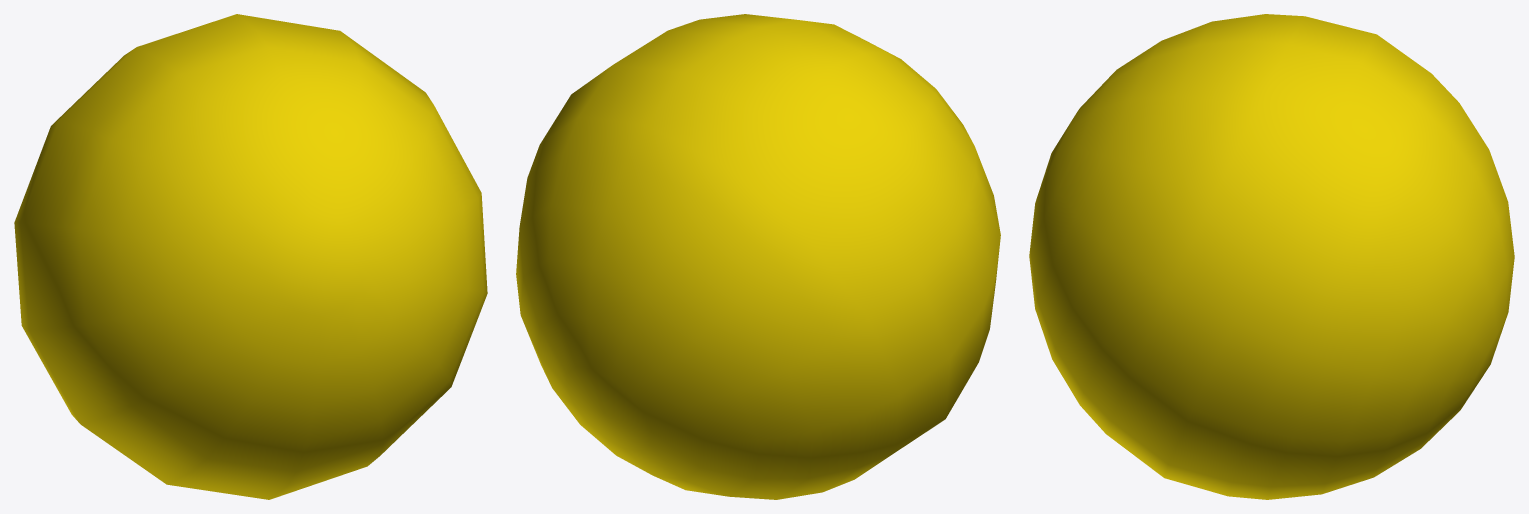
File: High_catching_Fingers_Up_ball_01.fbx
The picture shows the model from 3 angles, left to right: view 1: azimuth 30°, elevation 25°; view 2: azimuth 150°, elevation 25°; view 3: azimuth 270°, elevation 25°; orthographic projection. The views are drawn at different scales.
Parts seen in each view (by area): view 1: polySurface178; view 2: polySurface178; view 3: polySurface178.
Boxes of the visible parts, x1=… form: polySurface178: x1=14, y1=14, x2=487, y2=499; polySurface178: x1=516, y1=14, x2=1000, y2=499; polySurface178: x1=1029, y1=14, x2=1514, y2=499.
Bounding box in the file's own units: 7.34 × 7.36 × 7.36.
